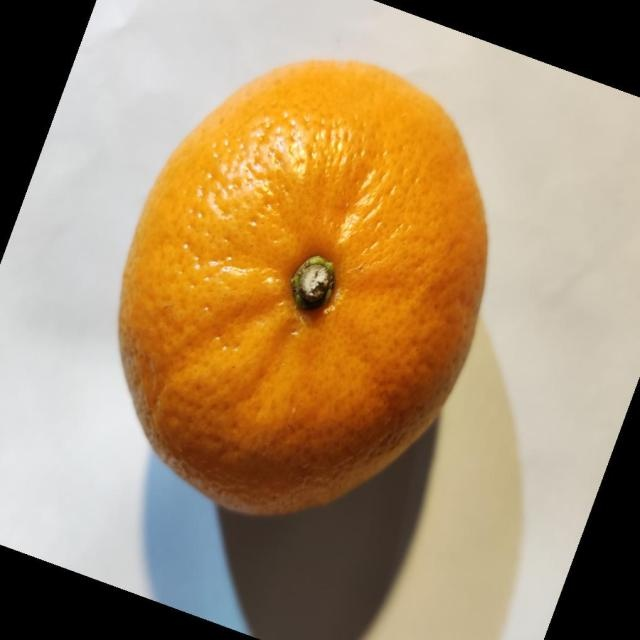agrume: (116, 58, 488, 517)
